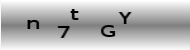7: (56, 24, 71, 40)
G: (98, 24, 117, 38)
Y: (117, 11, 134, 26)
n: (25, 19, 41, 31)
t: (68, 7, 80, 22)
